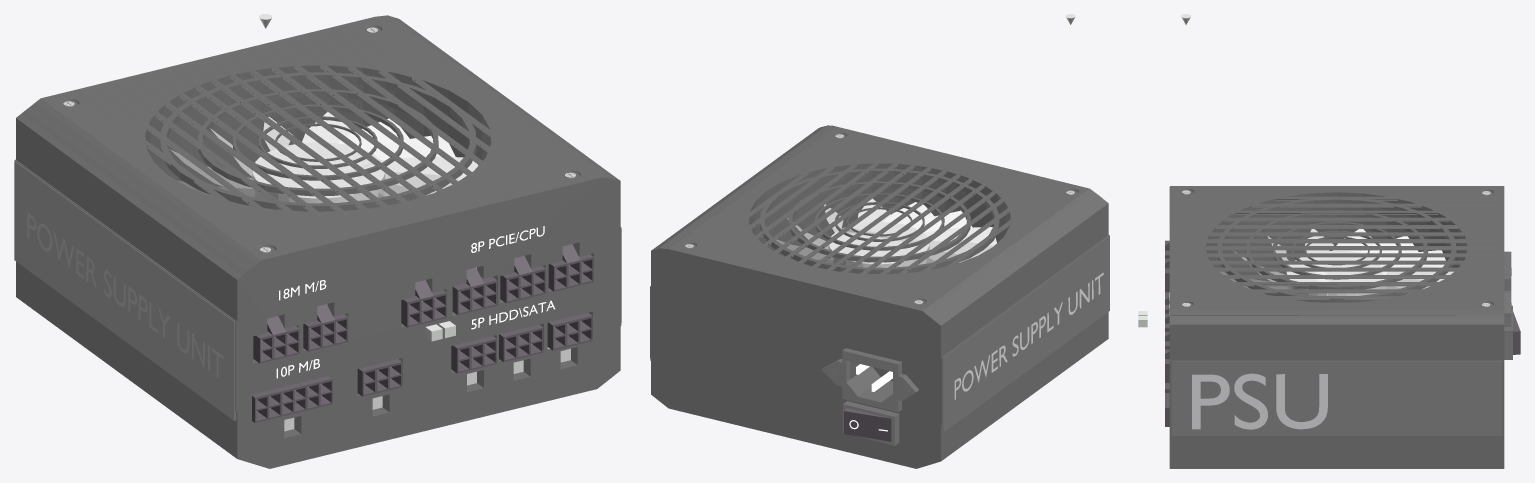
File: psu.glb
3 views of the same model, side by side, from view 1: azimuth 30°, elevation 25°; view 2: azimuth 150°, elevation 25°; view 3: azimuth 270°, elevation 25° (orthographic). The views are drawn at different scales.
Visible parts, largest first — view 1: Object_6, Object_12, Object_16, Object_4, Object_38; view 2: Object_6, Object_12, Object_4, Object_16; view 3: Object_6, Object_12, Object_16, Object_4.
Boxes of the visible parts, x1,y1,x2,y2 form: Object_6: (14,15,621,468); Object_12: (14,161,621,420); Object_16: (27,14,593,431); Object_4: (170,112,478,203); Object_38: (276,226,554,378); Object_6: (650,125,1109,468); Object_12: (650,236,1109,445); Object_4: (762,198,996,267); Object_16: (685,14,1103,441); Object_6: (1169,186,1504,468); Object_12: (1171,251,1512,435); Object_16: (1138,14,1520,429); Object_4: (1219,229,1453,295).
Size of the model in its own units: 20.44 by 21.94 by 22.74.
Materials: 5 (5 with a texture image).
